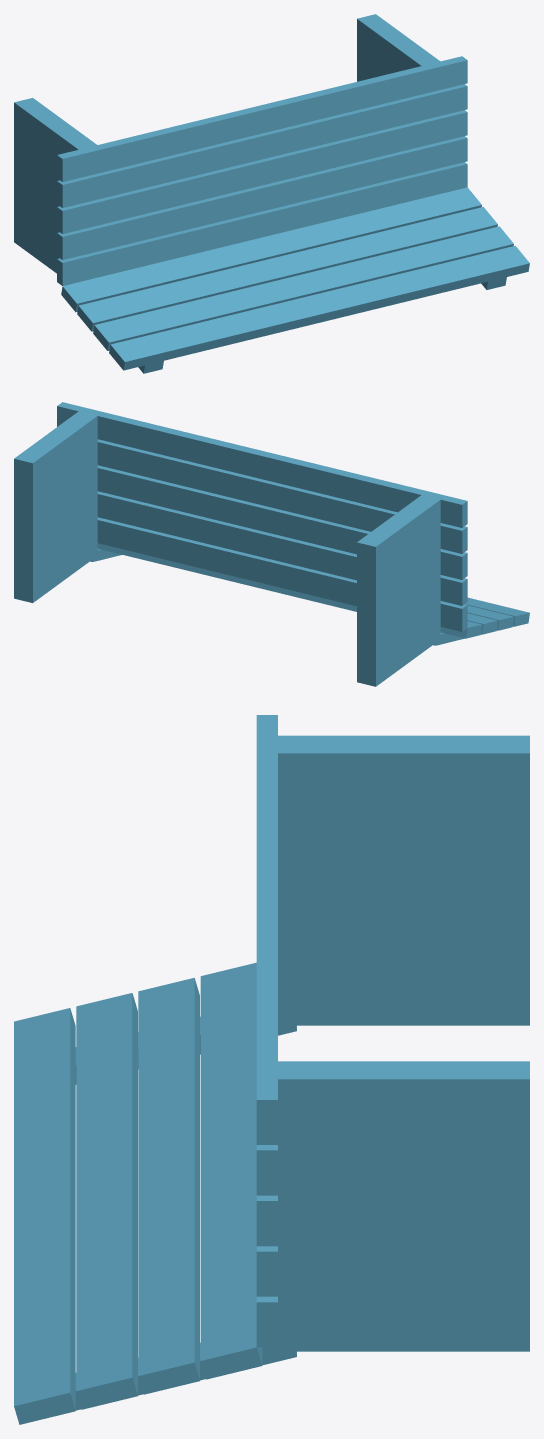
The model's file is banca.glb.
The picture shows the model from 3 angles, top to bottom: view 1: azimuth 30°, elevation 25°; view 2: azimuth 150°, elevation 25°; view 3: azimuth 270°, elevation 25°; orthographic projection. The views are drawn at different scales.
Parts seen in each view (by area): view 1: respaldo_04, asiento_05, asiento_01, asiento_02, asiento_03, asiento_04, respaldo_01, respaldo_02, respaldo_03, soporte_izquierdo, soporte_derecho; view 2: soporte_derecho, soporte_izquierdo, asiento_05, asiento_04, asiento_03, asiento_01, asiento_02, respaldo_01, respaldo_04, respaldo_03, respaldo_02; view 3: soporte_derecho, soporte_izquierdo, respaldo_03, respaldo_02, respaldo_04, respaldo_01, asiento_05, asiento_01, asiento_03, asiento_02, asiento_04.
Boxes of the visible parts, bbox=[...] form: respaldo_04: bbox=[109, 245, 529, 370]; asiento_05: bbox=[57, 56, 467, 181]; asiento_01: bbox=[57, 162, 467, 285]; asiento_02: bbox=[57, 136, 467, 259]; asiento_03: bbox=[57, 110, 467, 233]; asiento_04: bbox=[57, 84, 467, 207]; respaldo_01: bbox=[61, 187, 481, 312]; respaldo_02: bbox=[77, 207, 497, 331]; respaldo_03: bbox=[93, 226, 513, 350]; soporte_izquierdo: bbox=[14, 98, 97, 273]; soporte_derecho: bbox=[357, 14, 440, 81]; soporte_derecho: bbox=[14, 411, 97, 602]; soporte_izquierdo: bbox=[357, 495, 440, 686]; asiento_05: bbox=[57, 402, 467, 527]; asiento_04: bbox=[97, 439, 467, 553]; asiento_03: bbox=[97, 465, 467, 579]; asiento_01: bbox=[97, 517, 467, 631]; asiento_02: bbox=[97, 491, 467, 605]; respaldo_01: bbox=[97, 543, 481, 638]; respaldo_04: bbox=[465, 597, 529, 626]; respaldo_03: bbox=[467, 605, 513, 630]; respaldo_02: bbox=[467, 613, 497, 634]; soporte_derecho: bbox=[278, 1061, 529, 1351]; soporte_izquierdo: bbox=[278, 735, 529, 1025]; respaldo_03: bbox=[76, 993, 137, 1409]; respaldo_02: bbox=[138, 977, 199, 1394]; respaldo_04: bbox=[14, 1008, 75, 1424]; respaldo_01: bbox=[200, 962, 262, 1379]; asiento_05: bbox=[256, 715, 277, 1144]; asiento_01: bbox=[256, 1296, 277, 1347]; asiento_03: bbox=[256, 1195, 277, 1246]; asiento_02: bbox=[256, 1246, 277, 1296]; asiento_04: bbox=[256, 1145, 277, 1195].
Size of the model in its own units: 1.5 by 0.6248 by 0.85.
